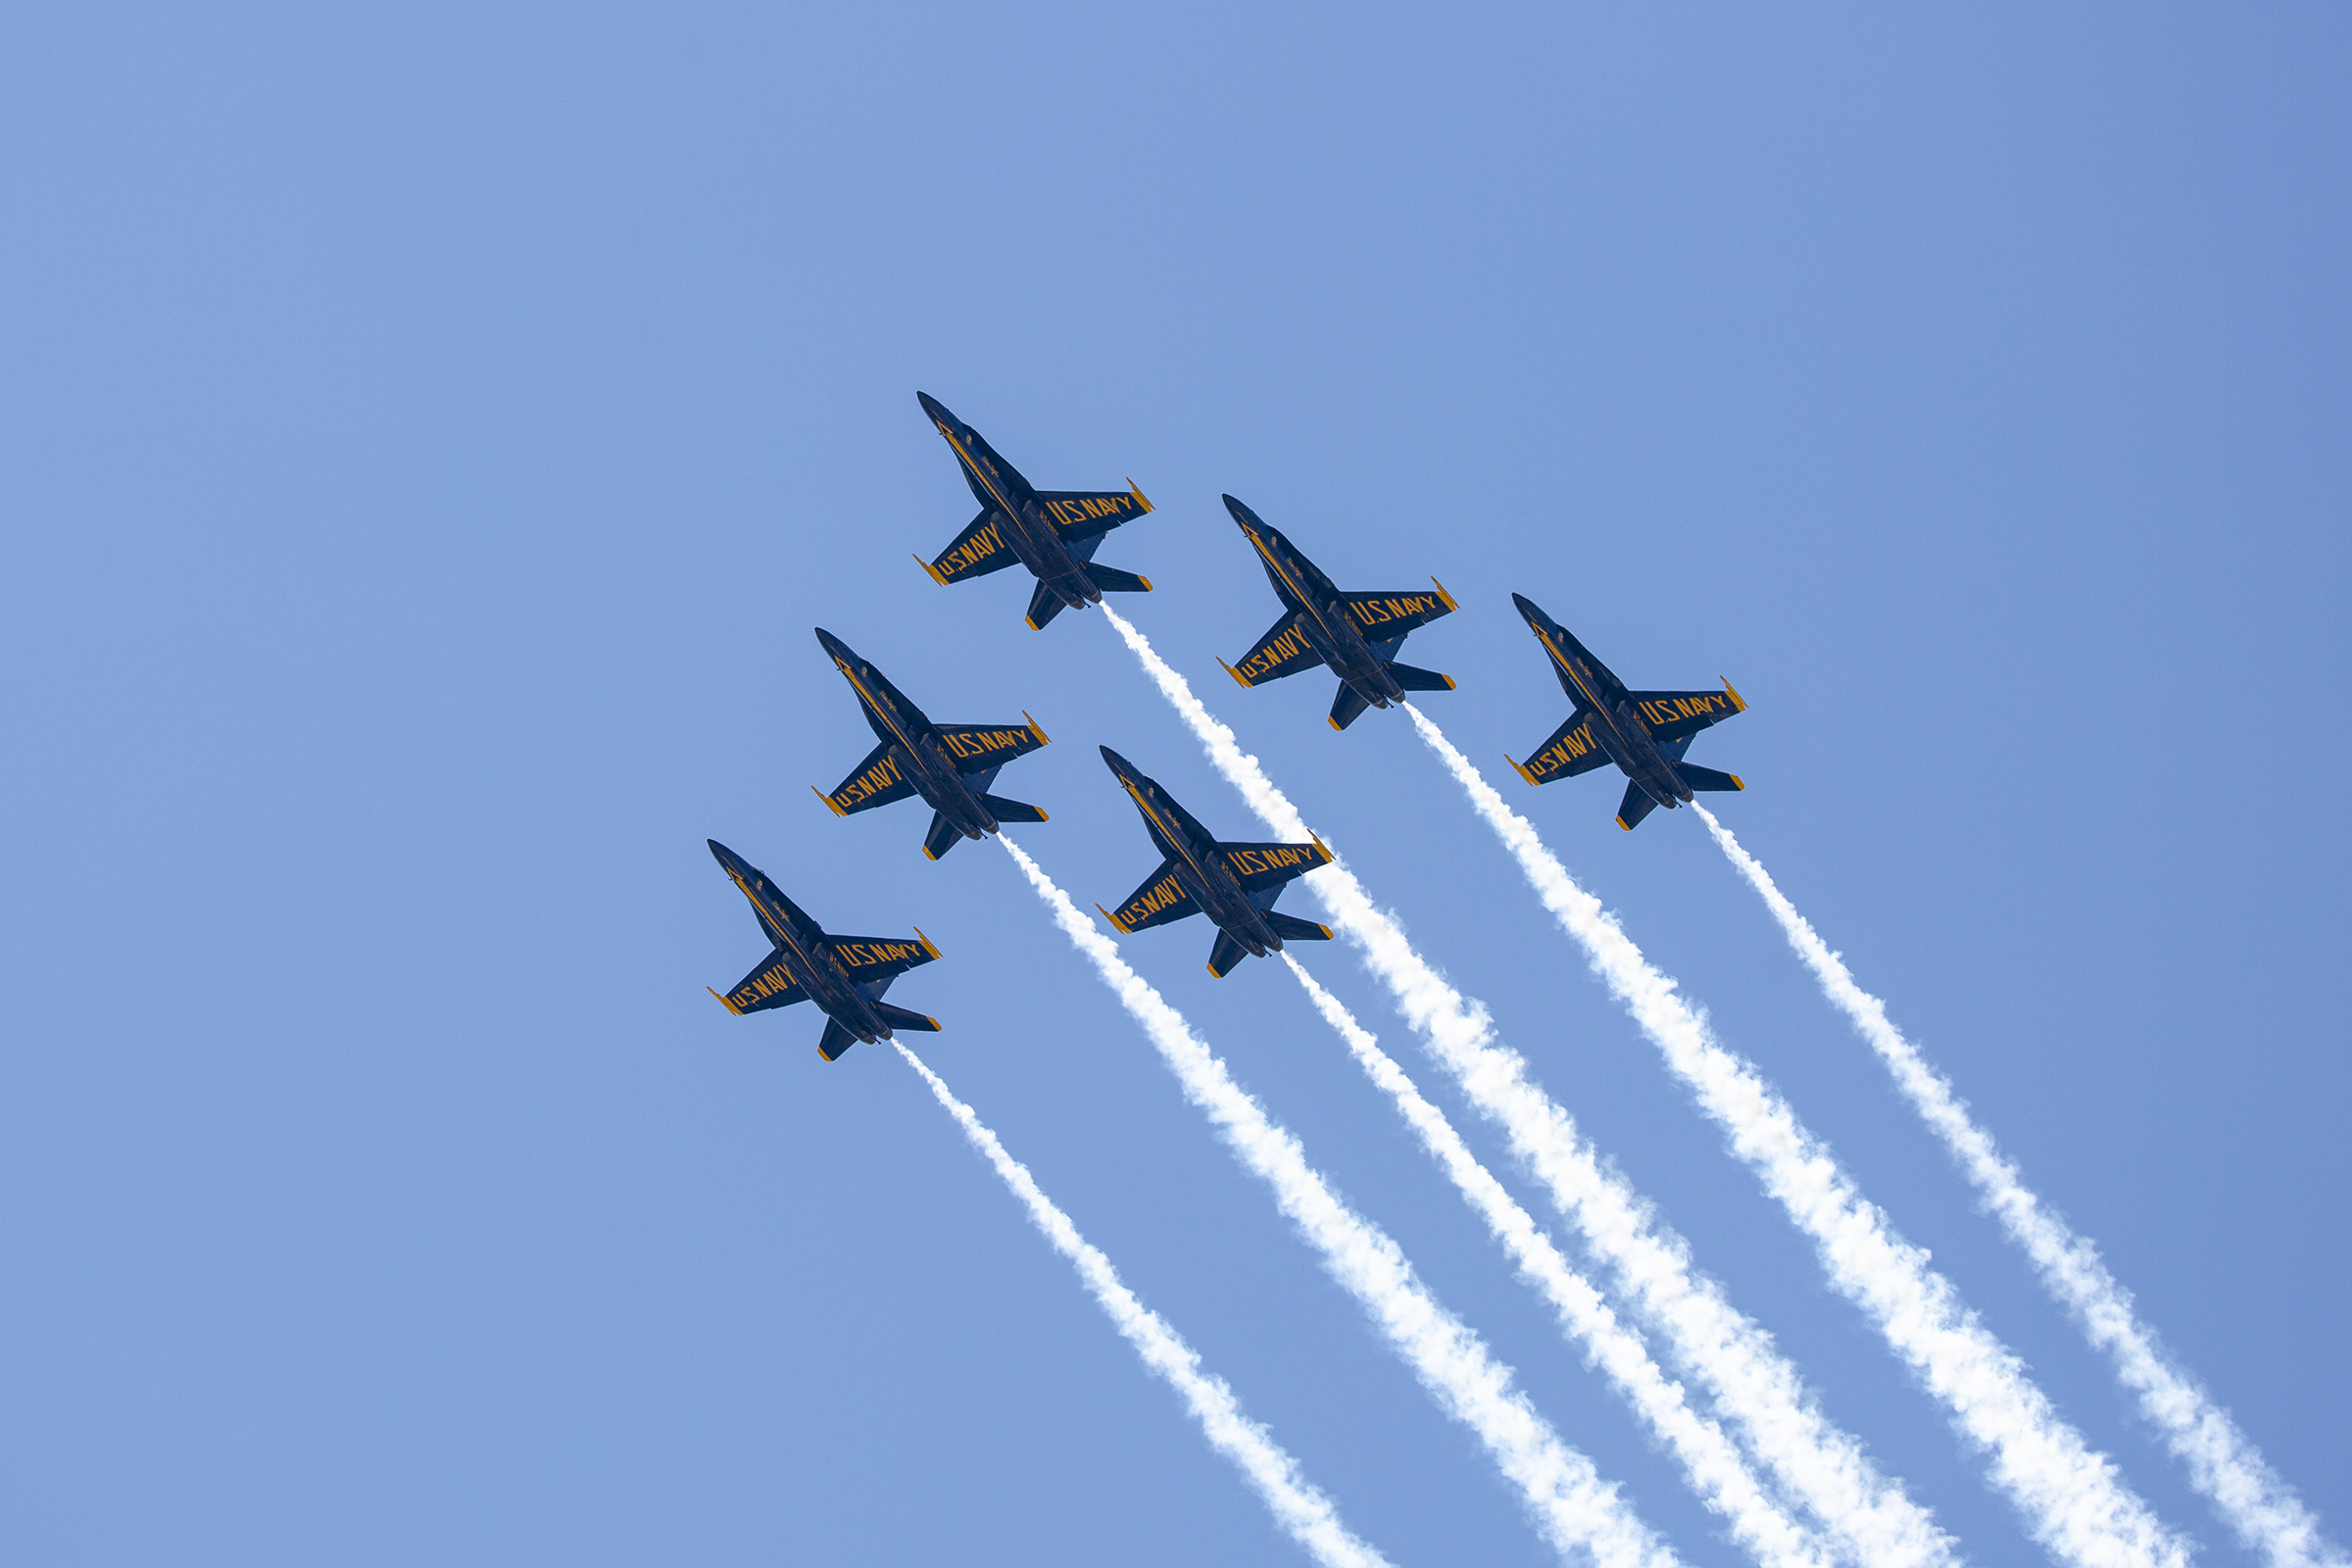plane: (1220, 480, 1463, 738), (910, 374, 1157, 626), (1505, 584, 1752, 835), (1090, 738, 1333, 976), (807, 621, 1039, 868), (696, 831, 941, 1060)
